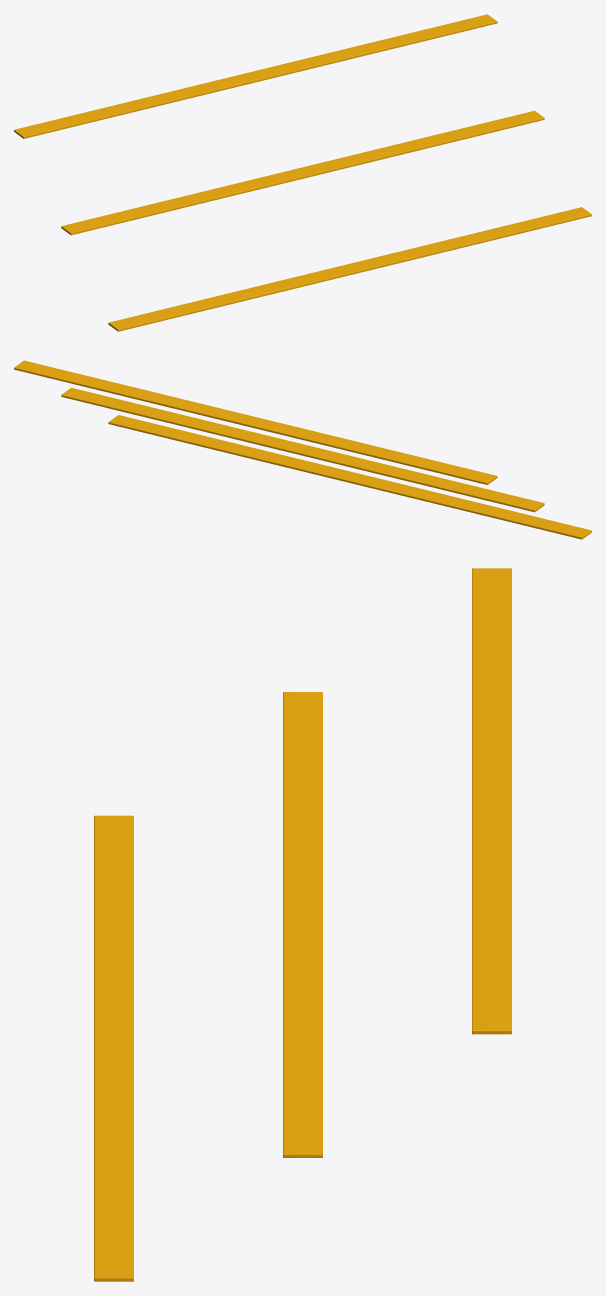
The model's file is gteki_ik_stair_n3_r187_t259_w1516_nosing.glb.
The picture shows the model from 3 angles, top to bottom: view 1: azimuth 30°, elevation 25°; view 2: azimuth 150°, elevation 25°; view 3: azimuth 270°, elevation 25°; orthographic projection. The views are drawn at different scales.
Visible parts, largest first — view 1: VIS_nosings; view 2: VIS_nosings; view 3: VIS_nosings.
Boxes of the visible parts, x1,y1,x2,y2 form: VIS_nosings: (14, 14, 591, 331); VIS_nosings: (14, 360, 591, 539); VIS_nosings: (94, 568, 511, 1281).
Size of the model in its own units: 1.5 by 0.38 by 0.573.
